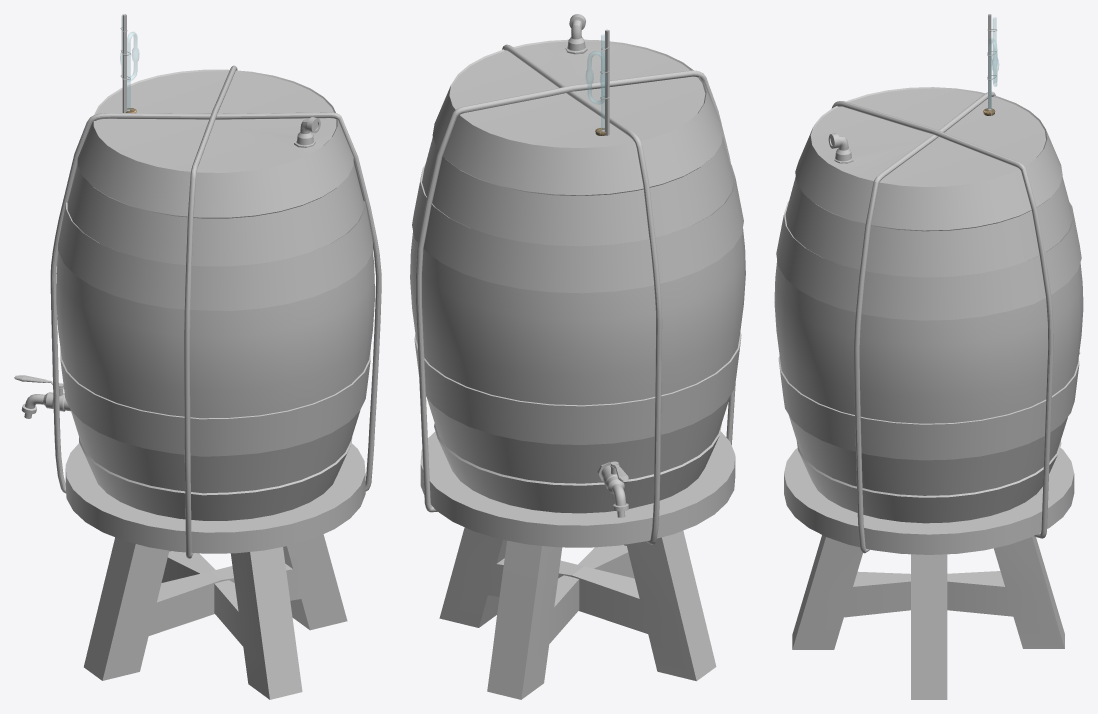
The model's file is Fermentation_Barrel.fbx.
3 renders of one model, left to right at view 1: azimuth 30°, elevation 25°; view 2: azimuth 150°, elevation 25°; view 3: azimuth 270°, elevation 25°, orthographic. The views are drawn at different scales.
Parts seen in each view (by area): view 1: Fermentation_Barrel, Pipe_Cork; view 2: Fermentation_Barrel, Pipe_Cork; view 3: Fermentation_Barrel, Pipe_Cork.
Part boxes in pixels (box(x1,y1,x2,y2)): Fermentation_Barrel: box(21, 65, 381, 699); Pipe_Cork: box(120, 14, 139, 112); Fermentation_Barrel: box(410, 14, 745, 699); Pipe_Cork: box(586, 29, 609, 135); Fermentation_Barrel: box(774, 87, 1083, 699); Pipe_Cork: box(987, 14, 998, 110).
Size of the model in its own units: 83.01 by 178 by 83.01.
